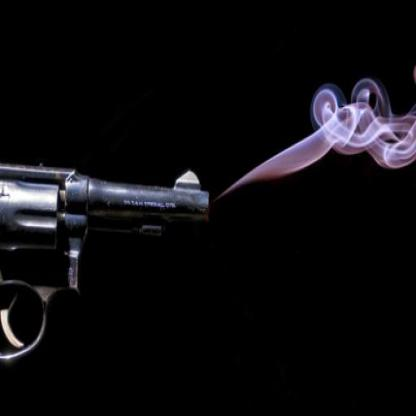gun: (0, 157, 216, 415)
